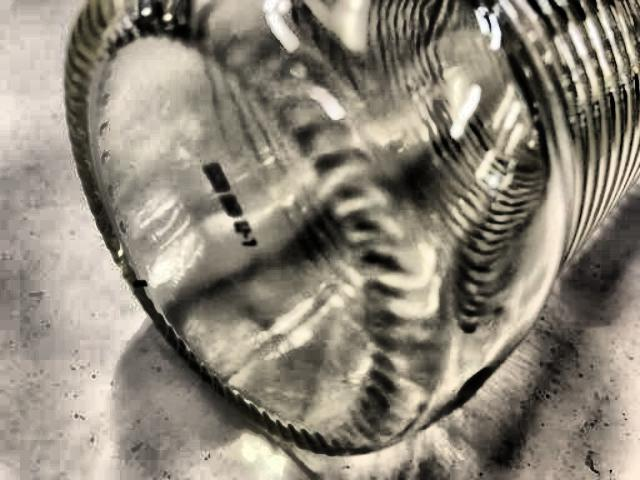Almennt: (54, 0, 640, 452)
